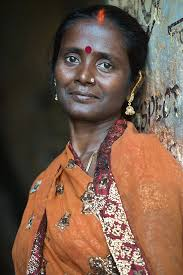person: (51, 5, 143, 124)
